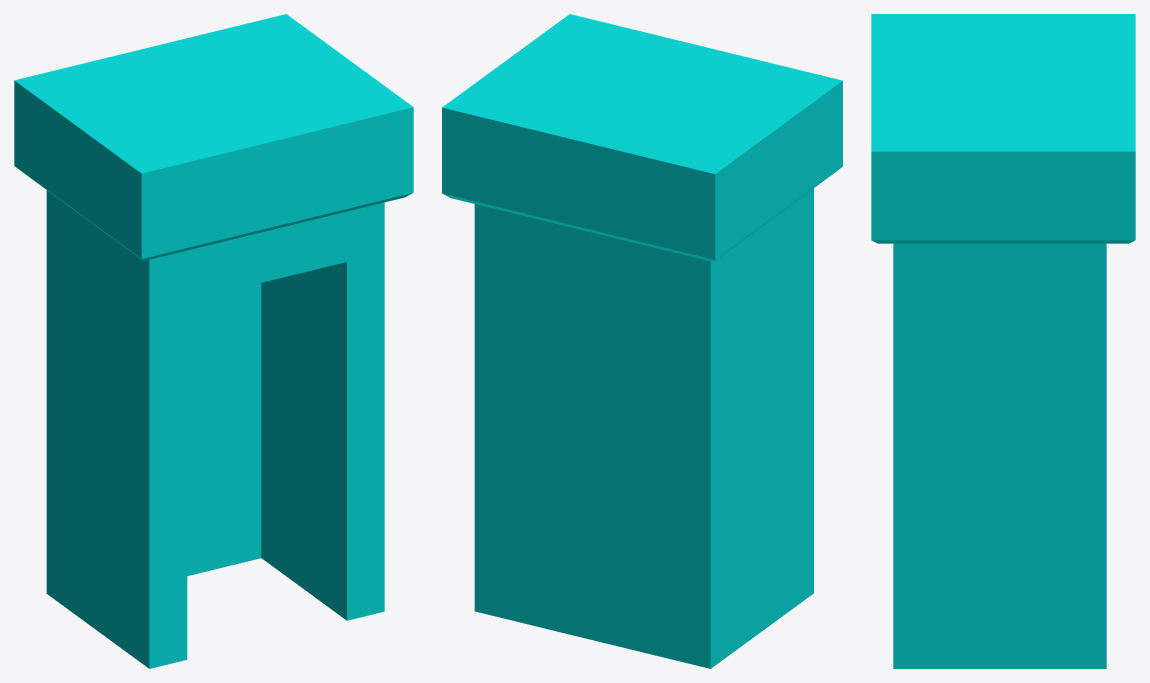
File: SM_Prop_ATM_Cover_01_Collision.fbx
3 views of the same model, side by side, from view 1: azimuth 30°, elevation 25°; view 2: azimuth 150°, elevation 25°; view 3: azimuth 270°, elevation 25° (orthographic). The views are drawn at different scales.
Parts seen in each view (by area): view 1: SM_Prop_ATM_Cover_01_Collision; view 2: SM_Prop_ATM_Cover_01_Collision; view 3: SM_Prop_ATM_Cover_01_Collision.
Part boxes in pixels (bbox=[...]): SM_Prop_ATM_Cover_01_Collision: bbox=[14, 14, 413, 668]; SM_Prop_ATM_Cover_01_Collision: bbox=[442, 14, 842, 668]; SM_Prop_ATM_Cover_01_Collision: bbox=[871, 14, 1135, 668].
Bounding box in the file's own units: 165 × 294 × 134.
